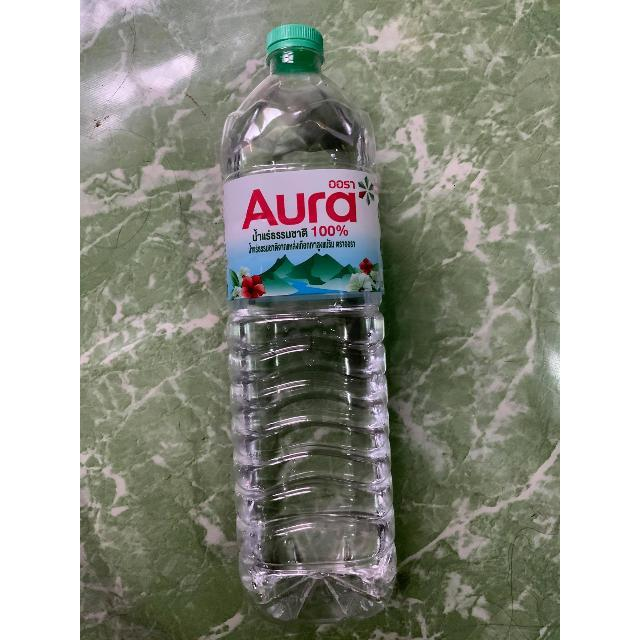Botella de plastico: (219, 24, 398, 626)
